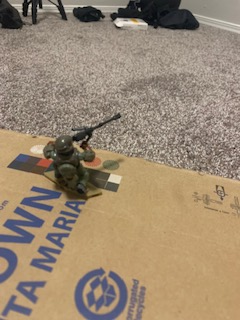soldier: (42, 113, 120, 198)
